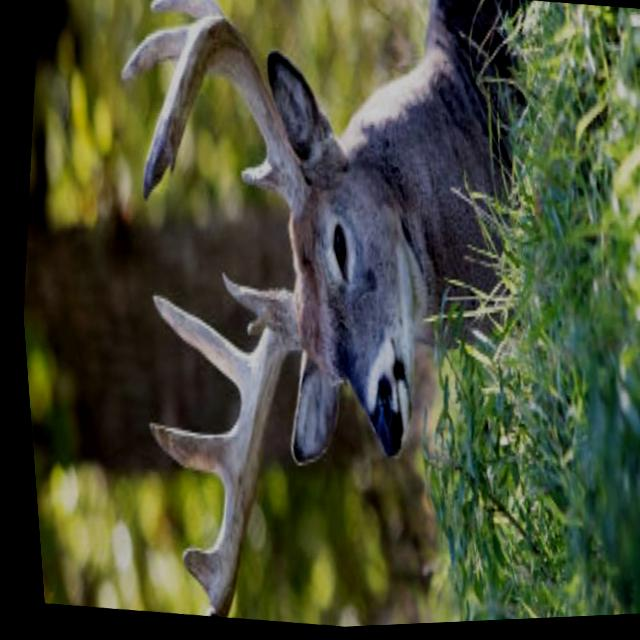E1: (240, 317, 259, 338)
L-G1: (214, 271, 275, 332)
L-G2: (146, 295, 243, 396)
L-G3: (140, 422, 223, 488)
L-G4: (171, 546, 205, 604)
R-F: (137, 16, 307, 221)
R-G1: (236, 151, 272, 191)
